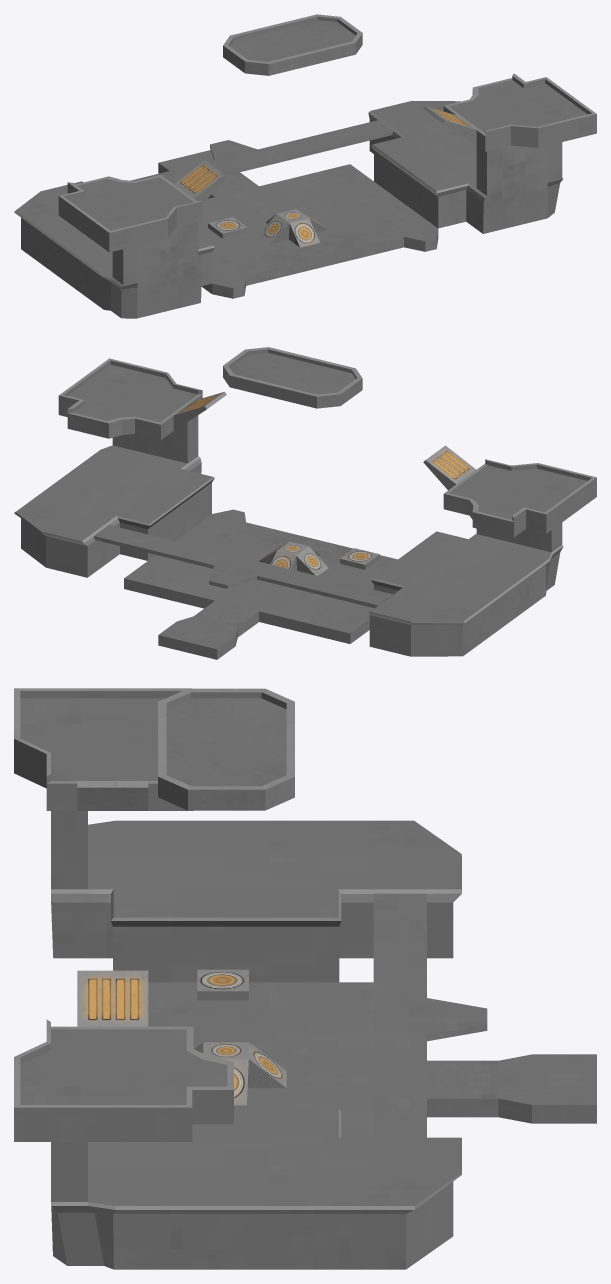
Rendered from Map.fbx.
3 renders of one model, top to bottom at view 1: azimuth 30°, elevation 25°; view 2: azimuth 150°, elevation 25°; view 3: azimuth 270°, elevation 25°, orthographic. The views are drawn at different scales.
Visible parts, largest first — view 1: Cube.002, Cube, Cube.006, Cube.003, Cube.005, Cube.001, Cube.004; view 2: Cube.002, Cube, Cube.006, Cube.003, Cube.005, Cube.001, Cube.004; view 3: Cube.002, Cube, Cube.006, Cube.003, Cube.005, Cube.001, Cube.004.
Boxes of the visible parts, bbox=[...] form: Cube.002: bbox=[14, 73, 596, 318]; Cube: bbox=[158, 150, 438, 298]; Cube.006: bbox=[223, 14, 362, 75]; Cube.003: bbox=[131, 120, 393, 183]; Cube.005: bbox=[174, 106, 476, 203]; Cube.001: bbox=[257, 209, 327, 247]; Cube.004: bbox=[208, 217, 247, 238]; Cube.002: bbox=[14, 358, 596, 656]; Cube: bbox=[124, 509, 397, 659]; Cube.006: bbox=[223, 347, 362, 408]; Cube.003: bbox=[94, 525, 392, 607]; Cube.005: bbox=[173, 391, 476, 490]; Cube.001: bbox=[258, 541, 328, 575]; Cube.004: bbox=[340, 548, 379, 569]; Cube.002: bbox=[14, 688, 461, 1269]; Cube: bbox=[148, 982, 596, 1137]; Cube.006: bbox=[158, 688, 294, 810]; Cube.003: bbox=[373, 893, 487, 1137]; Cube.005: bbox=[77, 781, 148, 1026]; Cube.001: bbox=[194, 1042, 286, 1105]; Cube.004: bbox=[197, 969, 248, 1000].
Bounding box in the file's own units: 9659 × 3859 × 5677.
